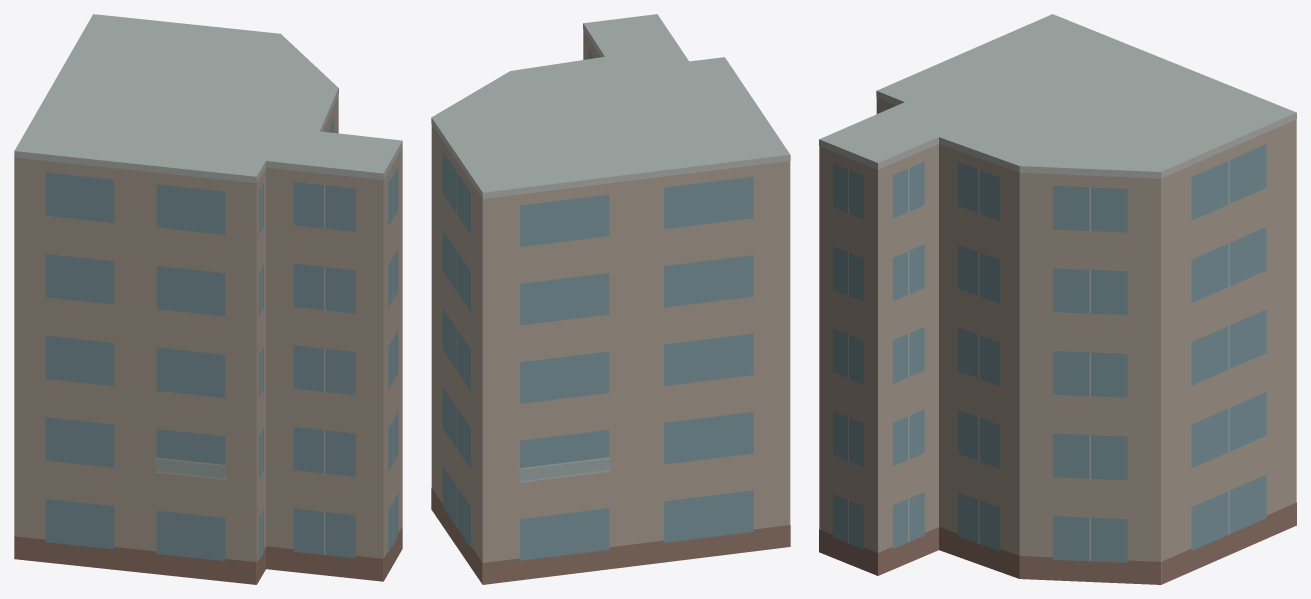
File: survey-upis-32639507.glb
The picture shows the model from 3 angles, left to right: view 1: azimuth 30°, elevation 25°; view 2: azimuth 150°, elevation 25°; view 3: azimuth 270°, elevation 25°; orthographic projection. The views are drawn at different scales.
Visible parts, largest first — view 1: survey-upis-32639507.tmp; view 2: survey-upis-32639507.tmp; view 3: survey-upis-32639507.tmp.
Boxes of the visible parts, left/top/right/bottom form: survey-upis-32639507.tmp: left=14, top=14, right=402, bottom=584; survey-upis-32639507.tmp: left=431, top=14, right=790, bottom=584; survey-upis-32639507.tmp: left=819, top=14, right=1296, bottom=584.
Bounding box in the file's own units: 12.4 × 15.1 × 15.84.
